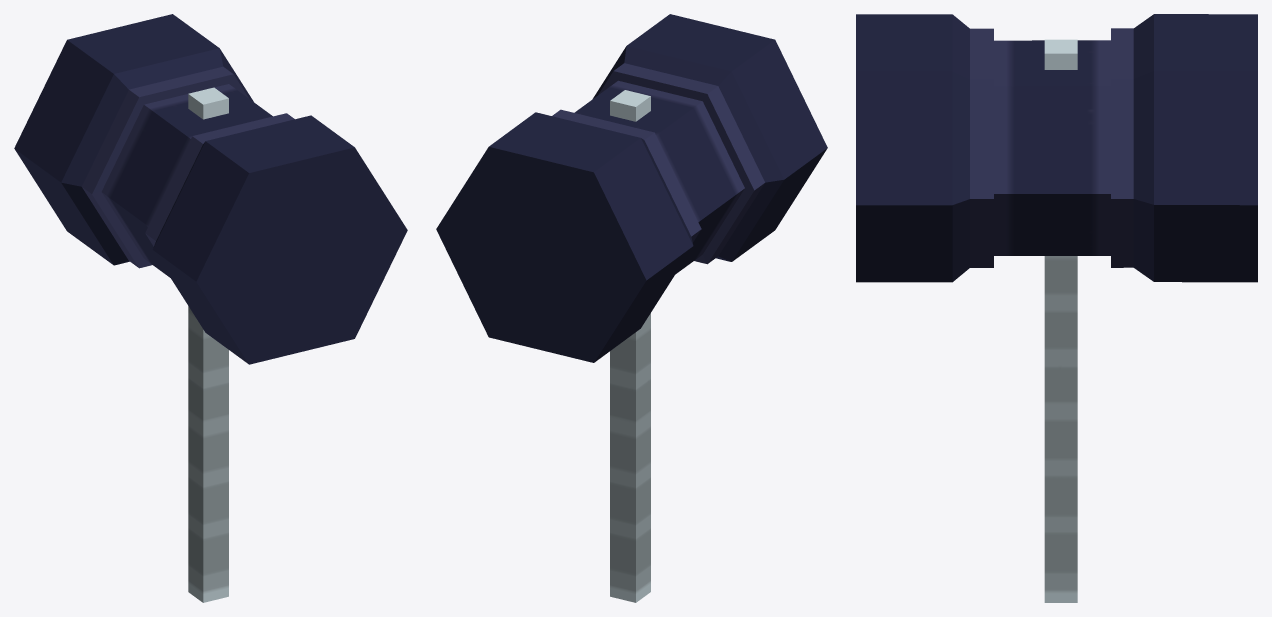
File: hammer02.fbx
The picture shows the model from 3 angles, left to right: view 1: azimuth 30°, elevation 25°; view 2: azimuth 150°, elevation 25°; view 3: azimuth 270°, elevation 25°; orthographic projection. The views are drawn at different scales.
Parts seen in each view (by area): view 1: pCylinder1, pCube1; view 2: pCylinder1, pCube1; view 3: pCylinder1, pCube1.
Boxes of the visible parts, x1,y1,x2,y2 form: pCylinder1: [14, 14, 407, 364]; pCube1: [188, 87, 228, 602]; pCylinder1: [436, 14, 827, 362]; pCube1: [610, 90, 650, 602]; pCylinder1: [856, 14, 1257, 282]; pCube1: [1044, 39, 1077, 602].
Size of the model in its own units: 30.63 by 69.51 by 45.7.
